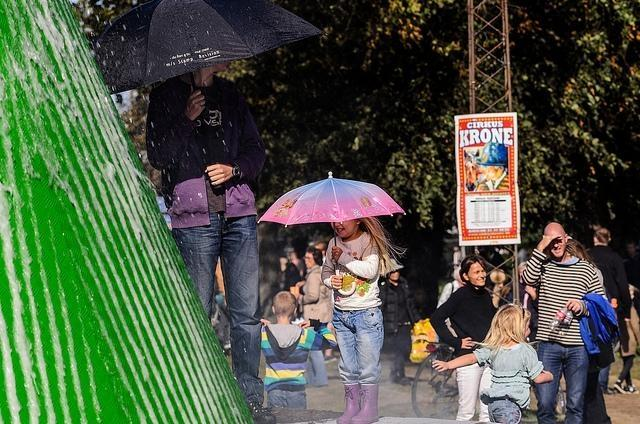bicycle: (410, 340, 462, 420)
